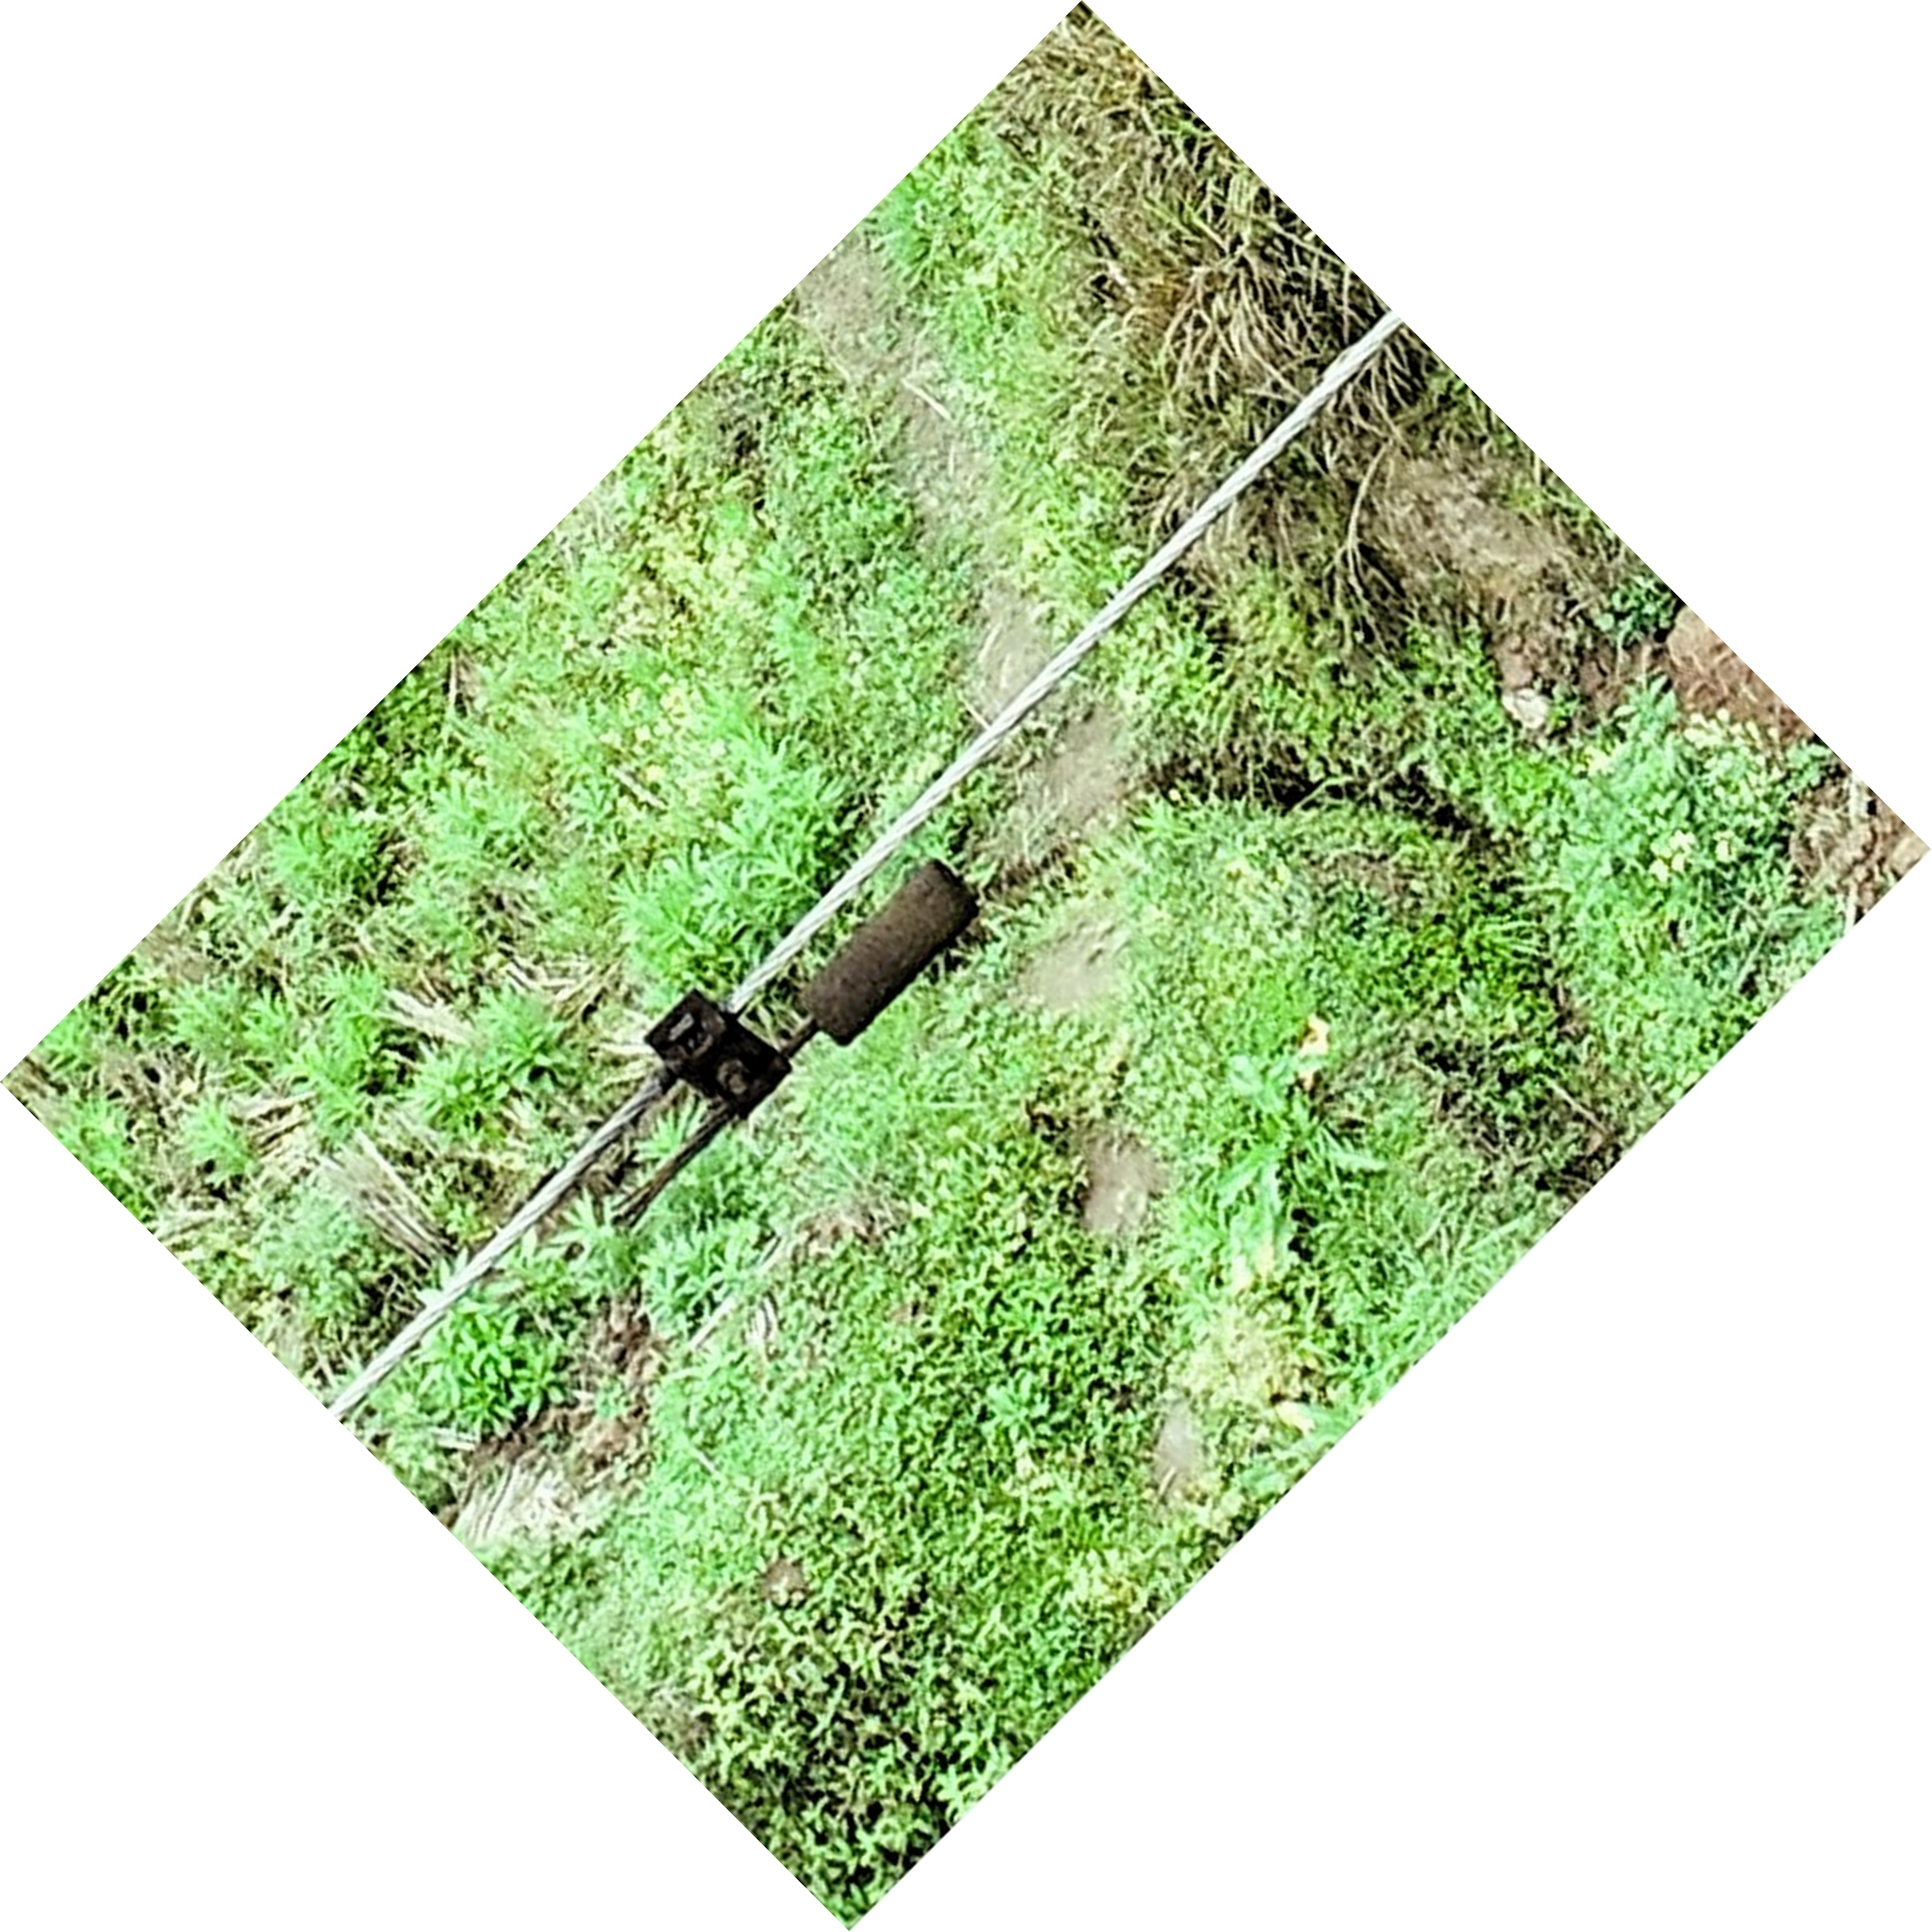Damage of shockproof hammer: (564, 832, 1001, 1247)
